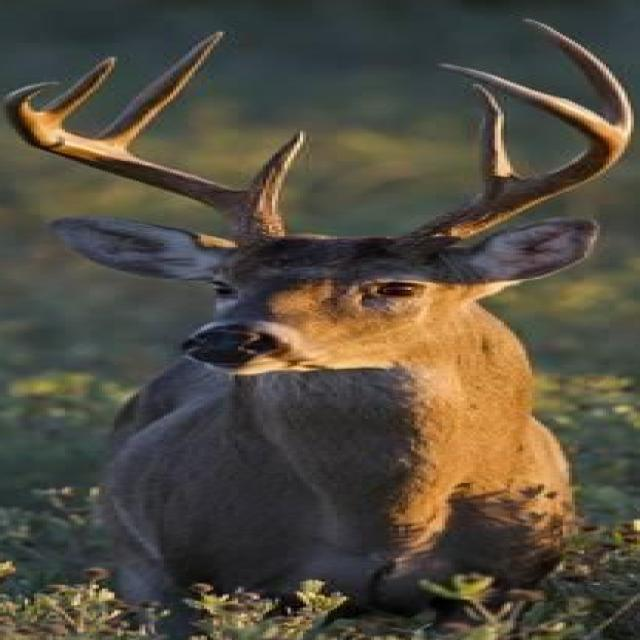L-F: (410, 64, 634, 240)
L-G1: (462, 82, 526, 203)
L-G2: (519, 17, 634, 133)
R-F: (1, 81, 288, 238)
R-G1: (243, 129, 307, 203)
R-G2: (91, 31, 227, 152)
R-G3: (38, 54, 119, 125)
